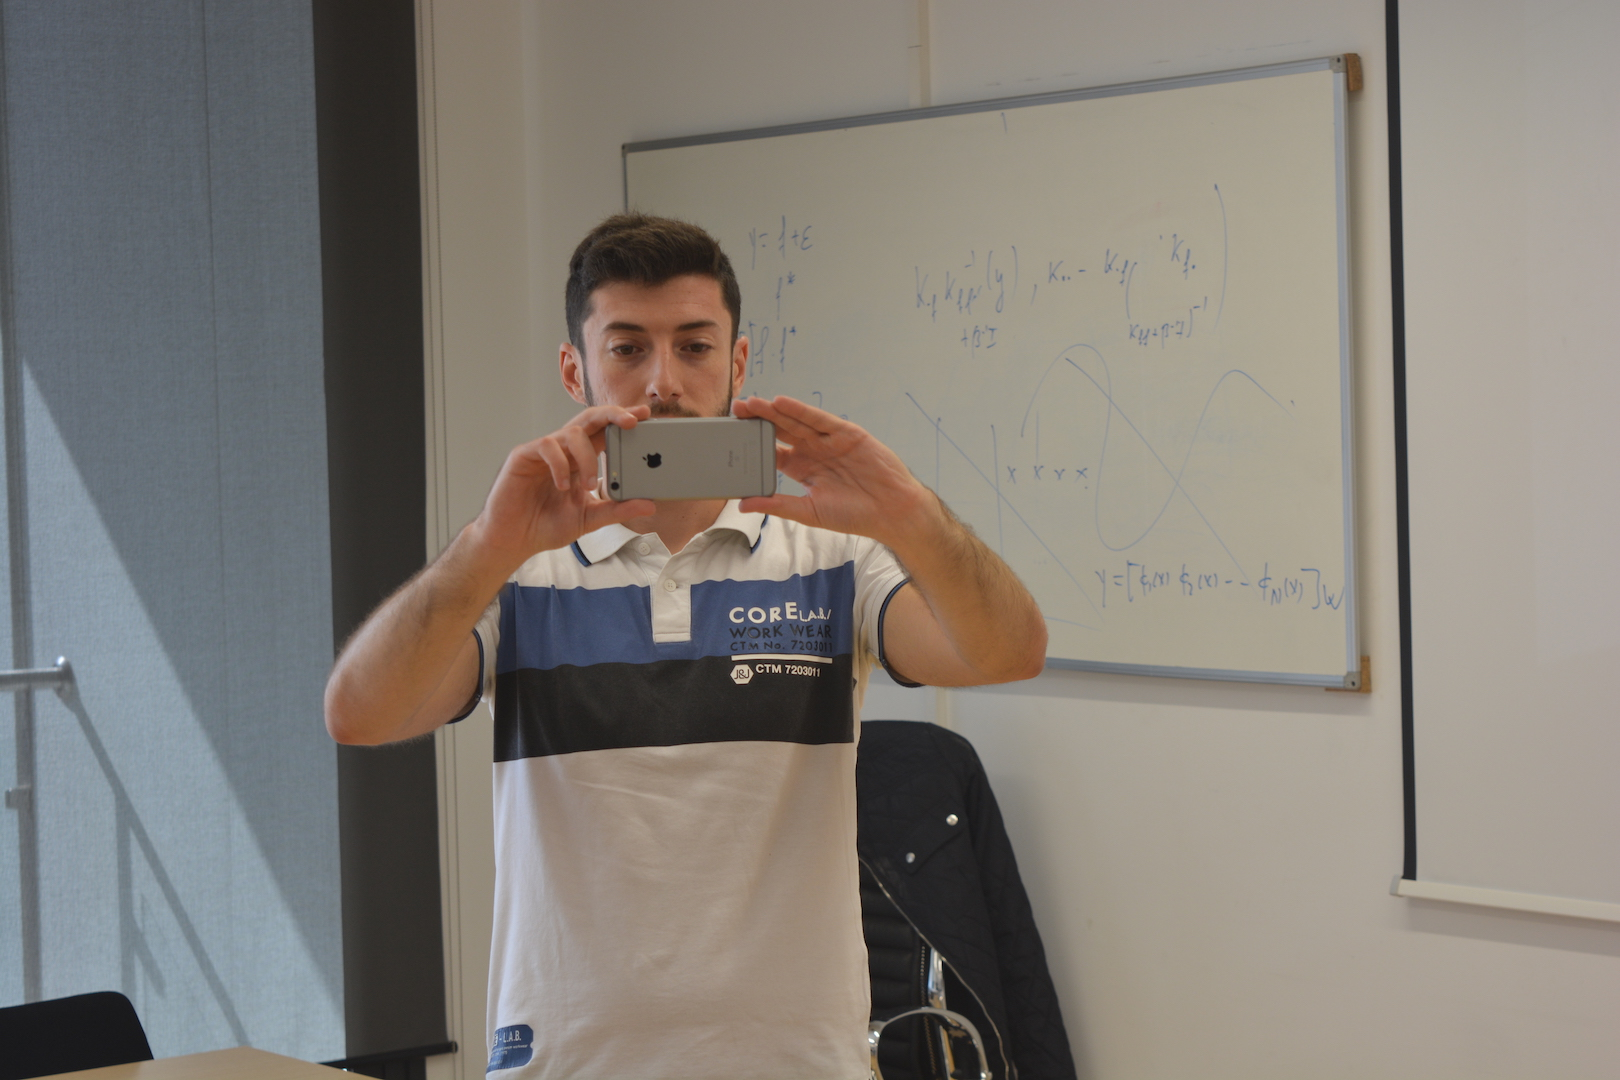smartphone: (604, 415, 777, 503)
